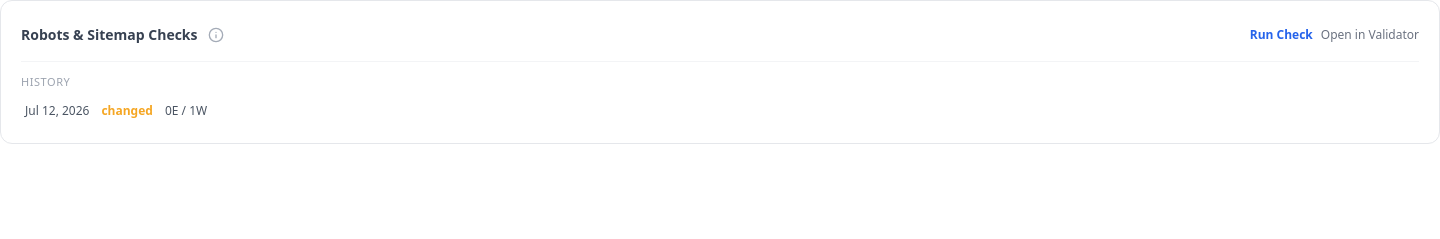
Test case: changed-vs-previous section (D5) › renders error/warning count movement (plan-Codex #4)
Click the button "Jul 12, 2026 changed 0E / 1W".
click(57, 110)  # box [21, 98, 1419, 122]
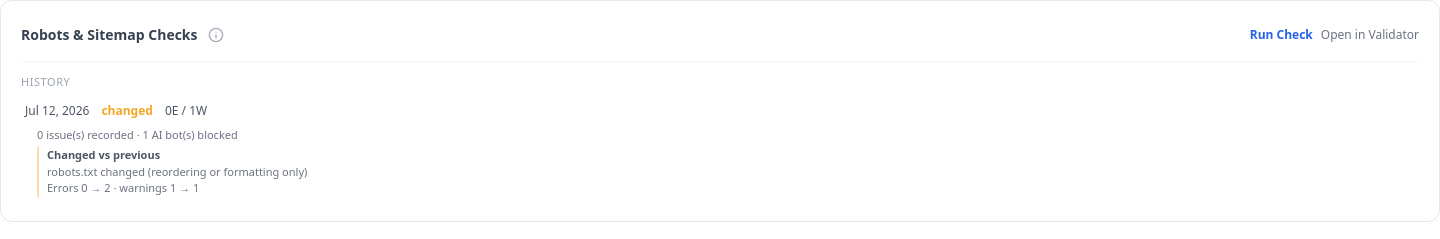
Now the text "Errors 0 → 2 · warnings 1 → 1" is shown, box [47, 180, 199, 195]
